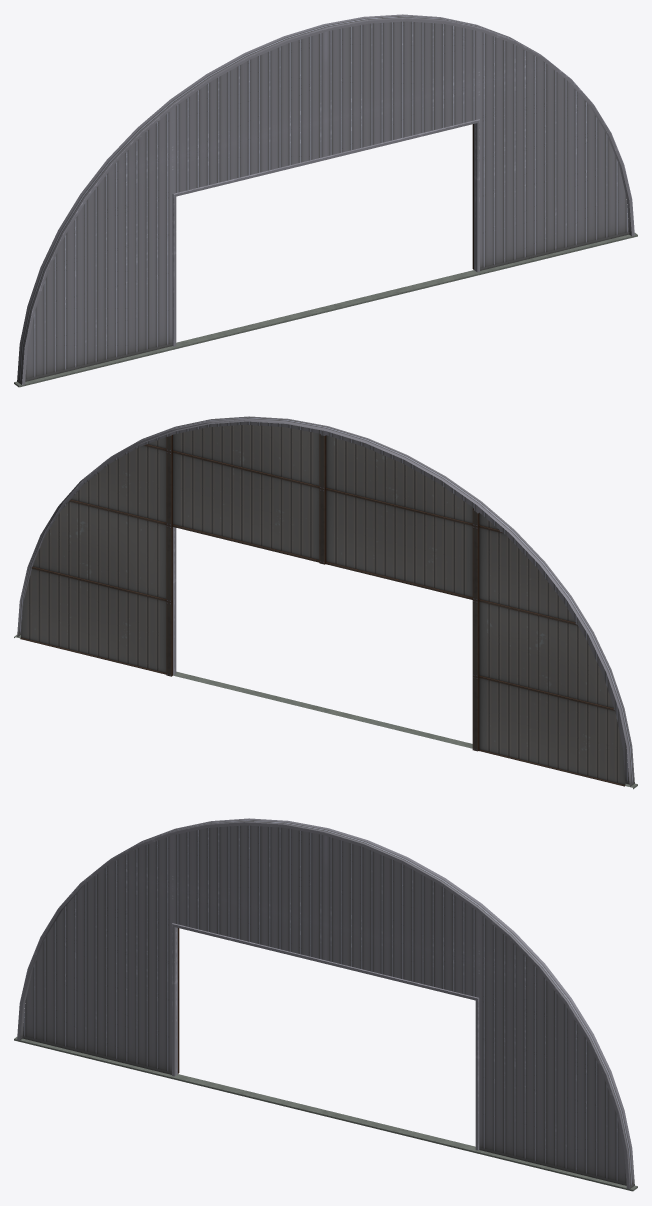
The model's file is Warehouse02_3.FBX.
3 views of the same model, one above another, from view 1: azimuth 30°, elevation 25°; view 2: azimuth 150°, elevation 25°; view 3: azimuth 330°, elevation 25° (orthographic).
Visible parts, largest first — view 1: Warehouse02_3; view 2: Warehouse02_3; view 3: Warehouse02_3.
Boxes of the visible parts, x1=… form: Warehouse02_3: x1=14, y1=14, x2=637, y2=387; Warehouse02_3: x1=14, y1=416, x2=637, y2=789; Warehouse02_3: x1=14, y1=818, x2=637, y2=1191.
Size of what is drawn, in the model's own units: 20.2 by 8.86 by 0.3628.
